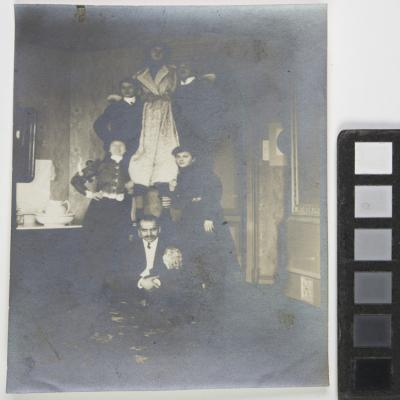photos_negatives: (15, 4, 332, 400)
